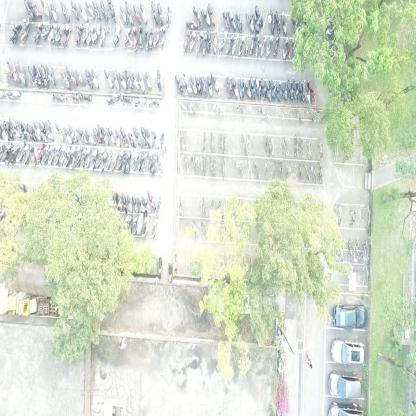car: (330, 336, 366, 368), (329, 369, 363, 399), (332, 303, 367, 329), (328, 402, 364, 416)
